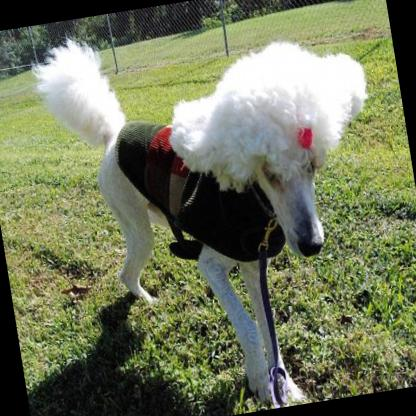standard_poodle: (22, 0, 412, 416)
